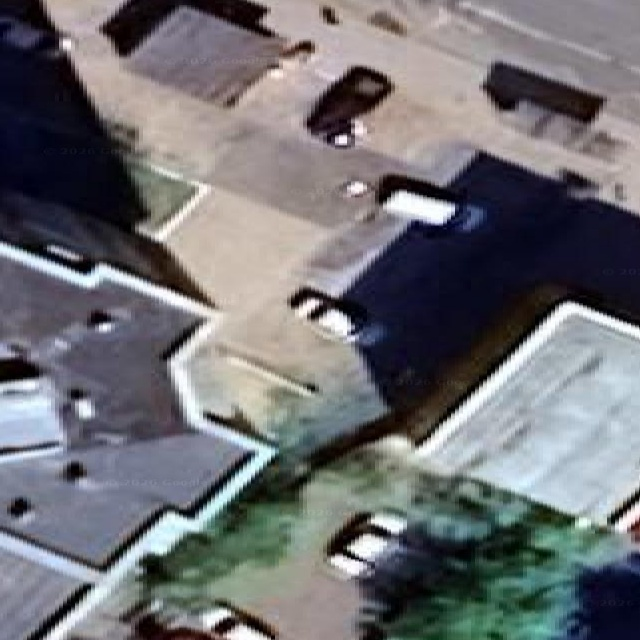car: (305, 66, 393, 146), (288, 287, 366, 342)
